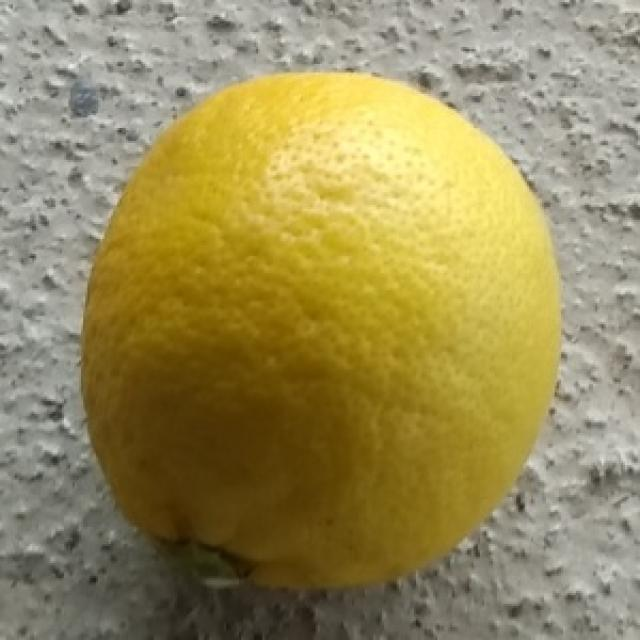Lemon: (81, 68, 564, 599)
